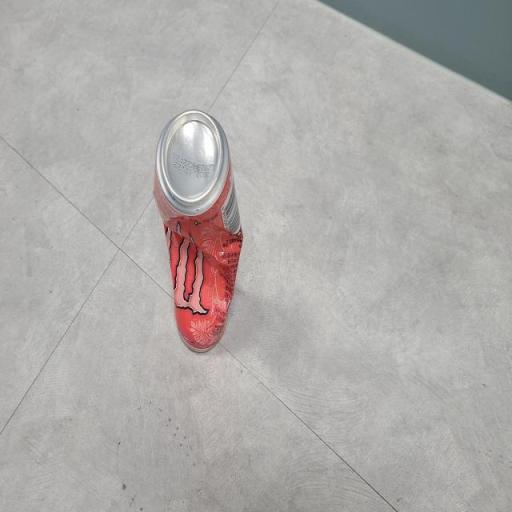metal: (146, 92, 246, 360)
